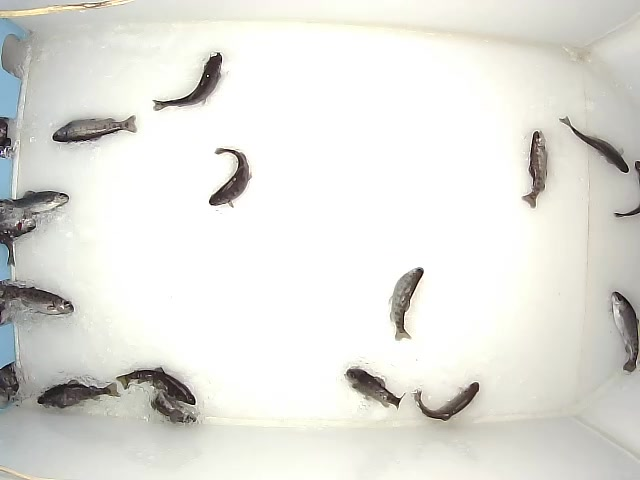fish: (151, 50, 223, 113), (557, 114, 631, 175), (116, 365, 197, 406), (387, 266, 425, 342), (343, 367, 407, 412), (207, 146, 252, 208), (412, 381, 480, 422), (36, 379, 121, 410), (609, 291, 640, 376), (51, 113, 138, 143), (520, 130, 549, 210)
